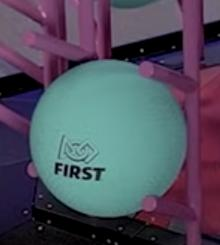algae: (31, 60, 187, 216), (111, 0, 155, 8)
